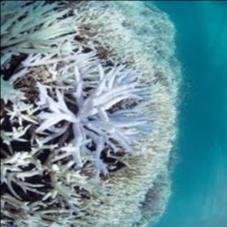bleached_corals: (7, 48, 165, 182)
